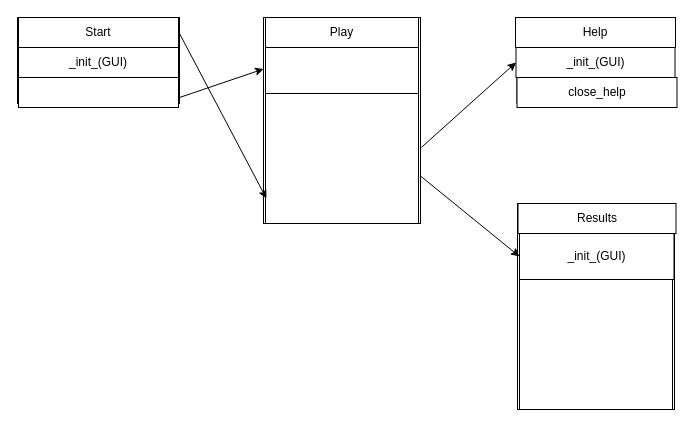
The diagram is 695 pixels wide and 427 high, and some of its shapes have lost their labels. Each missing label, with the box of its shape:
__init__(GUI): (264, 46, 418, 94)
find_correct find_wrong make_comment close_results: (518, 278, 672, 410)
new_round to_help to_results new_game: (264, 92, 418, 224)
to_play: (18, 76, 178, 108)
